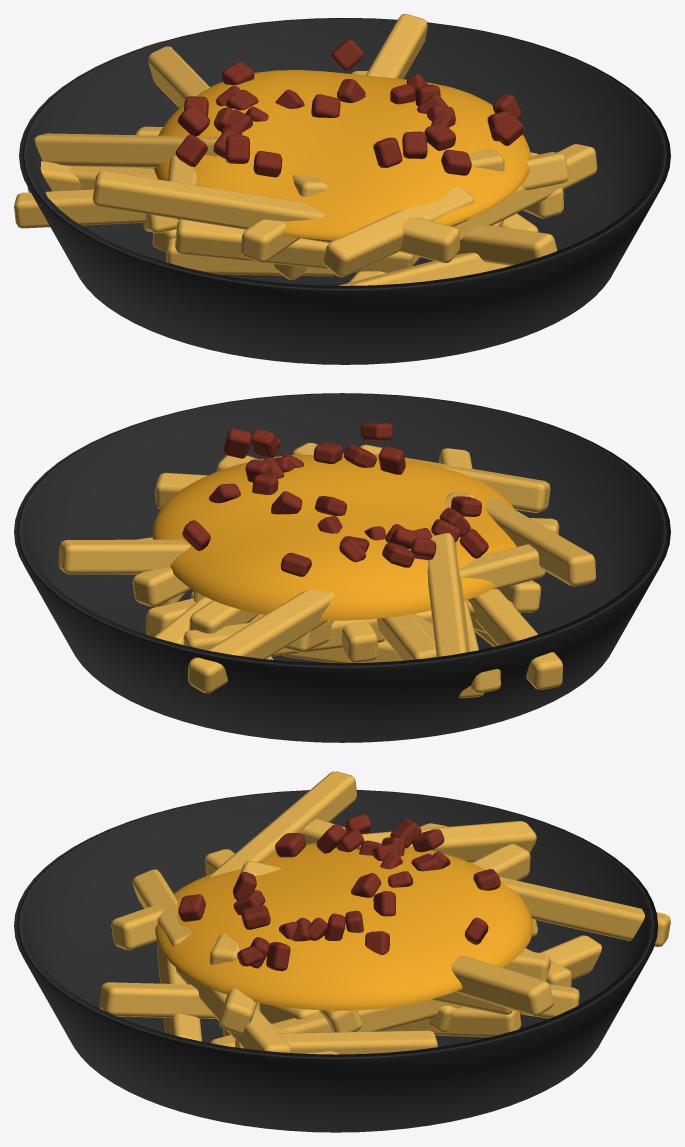
Rendered from fritas-cheddar.glb.
The picture shows the model from 3 angles, top to bottom: view 1: azimuth 30°, elevation 25°; view 2: azimuth 150°, elevation 25°; view 3: azimuth 270°, elevation 25°; orthographic projection.
Size of the model in its own units: 0.19 by 0.0462 by 0.1938.
